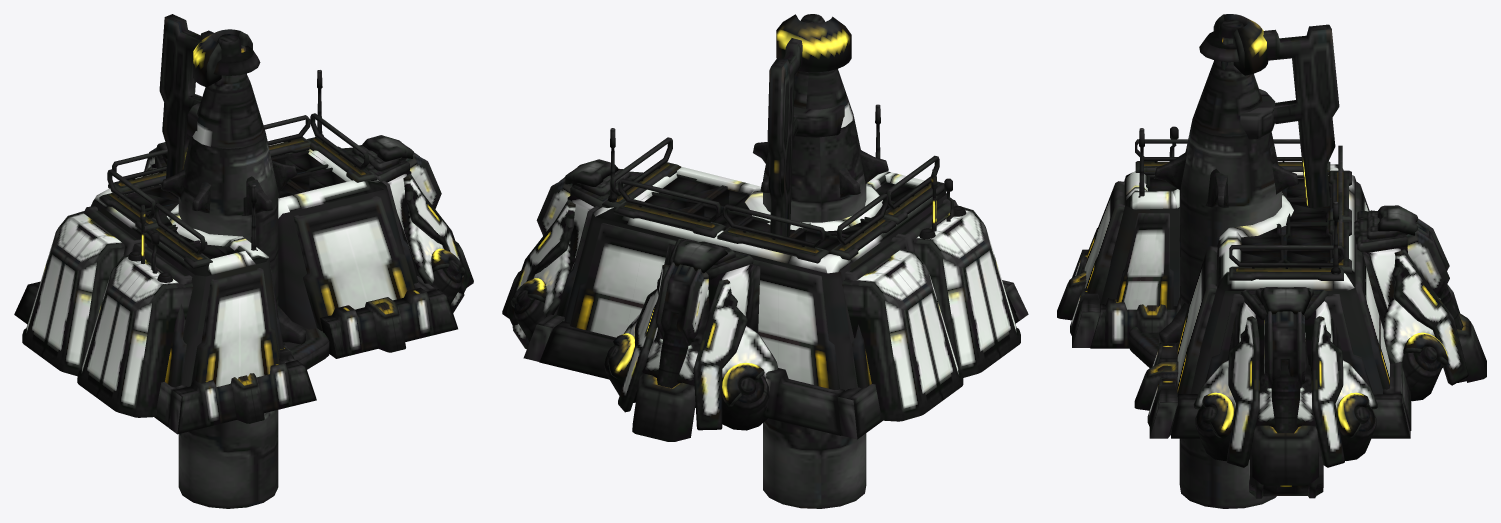
The model's file is UED_Armory.glb.
3 views of the same model, side by side, from view 1: azimuth 30°, elevation 25°; view 2: azimuth 150°, elevation 25°; view 3: azimuth 270°, elevation 25° (orthographic). The views are drawn at different scales.
Visible parts, largest first — view 1: Mesh; view 2: Mesh; view 3: Mesh.
Boxes of the visible parts, left/top/right/bottom form: Mesh: left=14, top=14, right=473, bottom=508; Mesh: left=502, top=14, right=1028, bottom=508; Mesh: left=1057, top=14, right=1486, bottom=508.
Bounding box in the file's own units: 4.64 × 4.8 × 4.
1 material, 1 textured.
